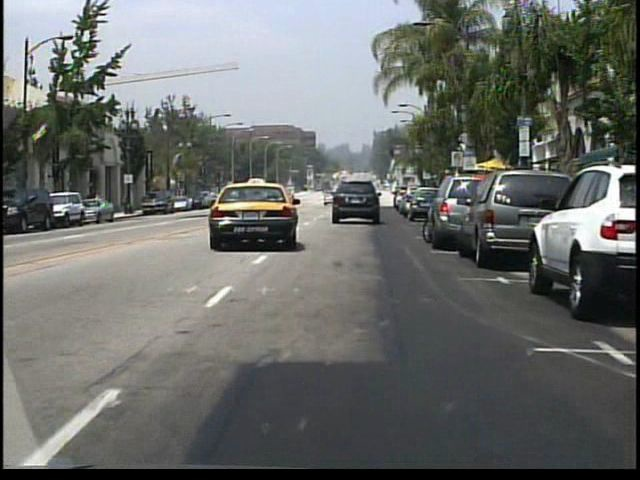person: (86, 187, 98, 216), (93, 189, 105, 215)
